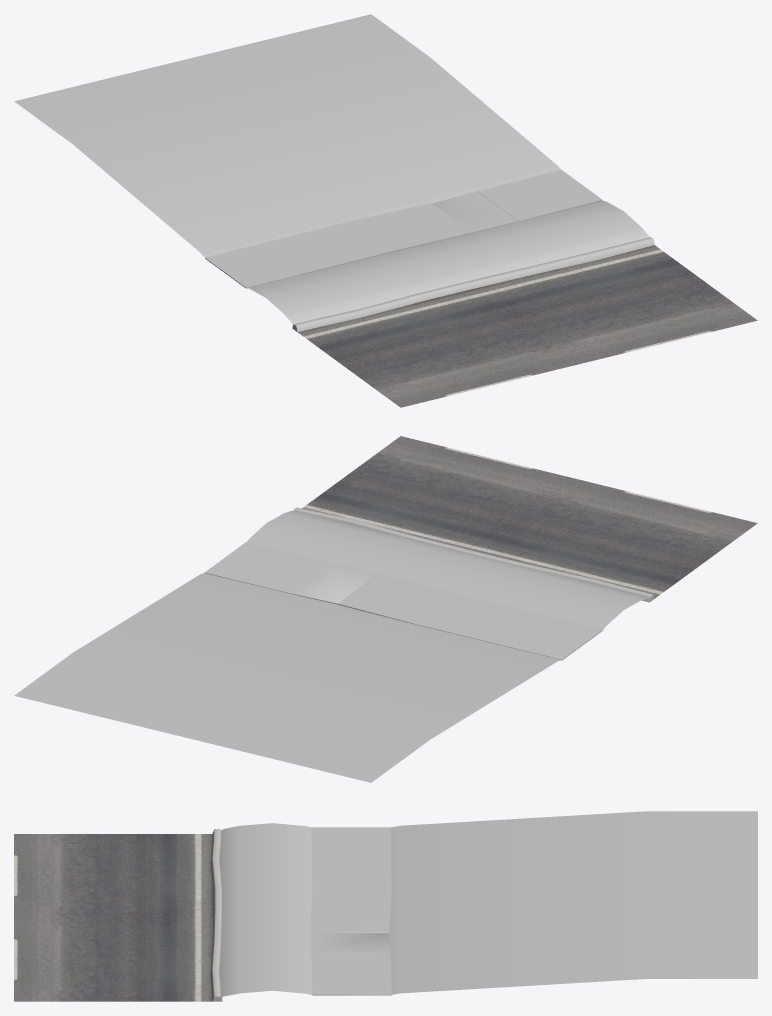
The model's file is Road_8x.FBX.
3 renders of one model, top to bottom at view 1: azimuth 30°, elevation 25°; view 2: azimuth 150°, elevation 25°; view 3: azimuth 270°, elevation 25°, orthographic. The views are drawn at different scales.
Visible parts, largest first — view 1: Road_8x; view 2: Road_8x; view 3: Road_8x.
Boxes of the visible parts, bbox=[...] form: Road_8x: bbox=[14, 14, 757, 407]; Road_8x: bbox=[14, 436, 757, 782]; Road_8x: bbox=[14, 811, 757, 1001].
Size of the model in its own units: 801 by 50.07 by 1500.
